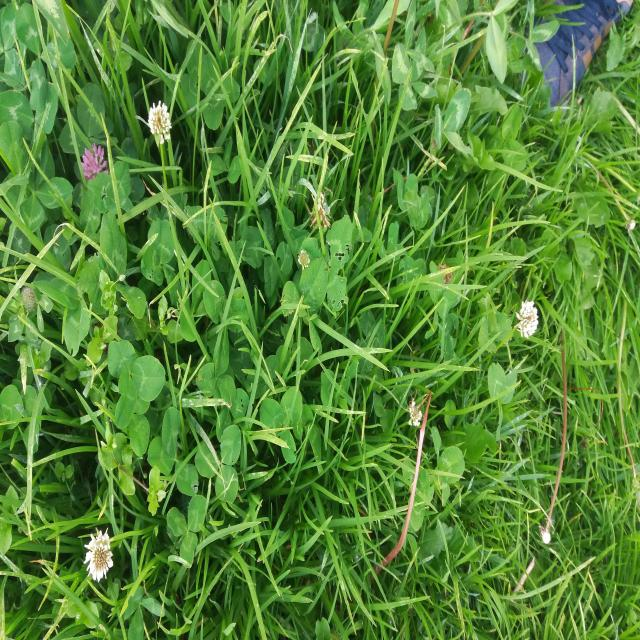Four Leaf Clover: (392, 167, 421, 215)
